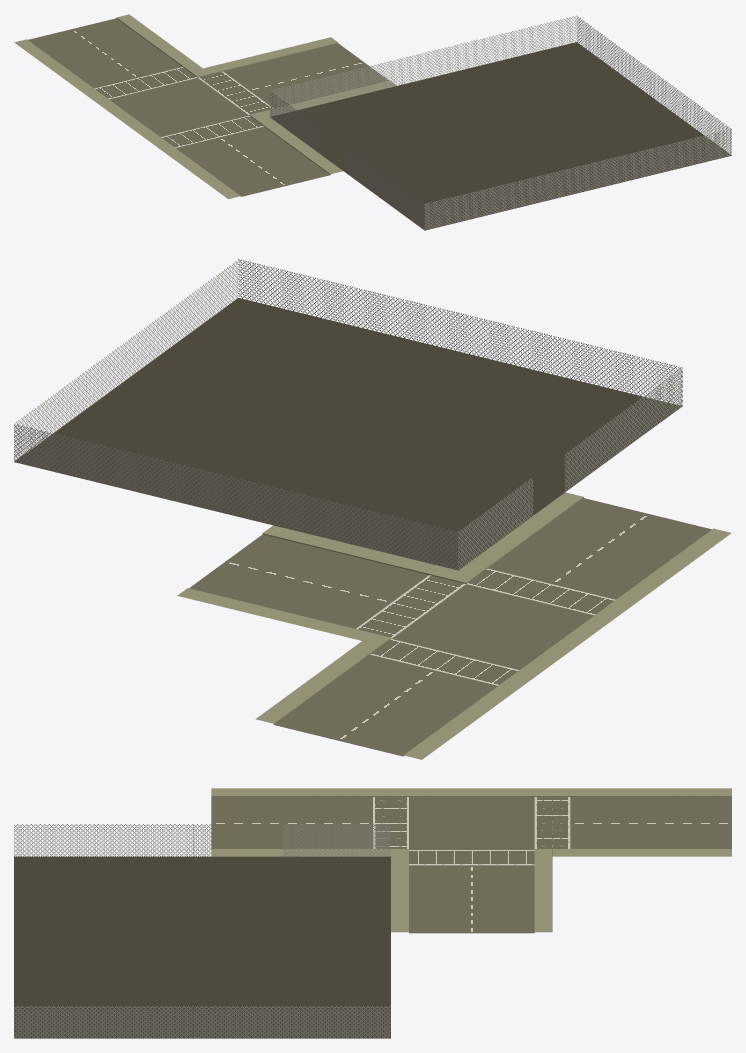
The model's file is corner.gltf.
3 renders of one model, top to bottom at view 1: azimuth 30°, elevation 25°; view 2: azimuth 150°, elevation 25°; view 3: azimuth 270°, elevation 25°, orthographic. The views are drawn at different scales.
Visible parts, largest first — view 1: Corner-col, Street-col; view 2: Corner-col, Street-col; view 3: Corner-col, Street-col.
Boxes of the visible parts, x1,y1,x2,y2 form: Corner-col: [269, 15, 731, 230]; Street-col: [14, 14, 397, 199]; Corner-col: [14, 259, 682, 570]; Street-col: [177, 492, 731, 759]; Corner-col: [14, 824, 390, 1038]; Street-col: [211, 788, 731, 933].
Bounding box in the file's own units: 33 × 2.06 × 40.
1 material, 1 textured.
